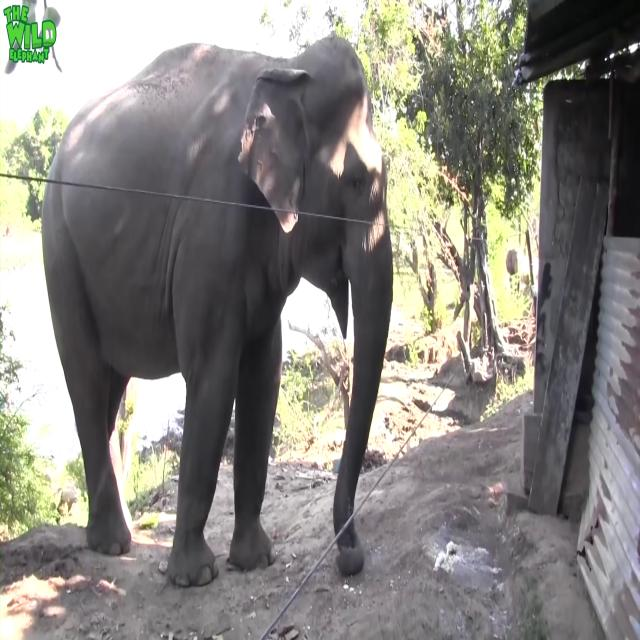Elephant: (40, 32, 394, 588)
